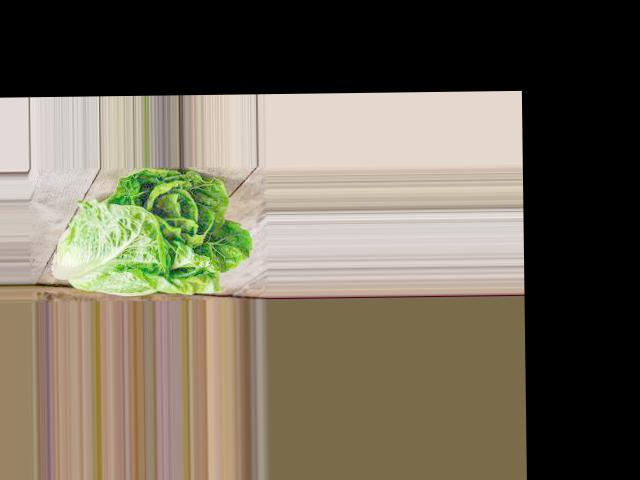lettuce: (72, 177, 234, 295)
